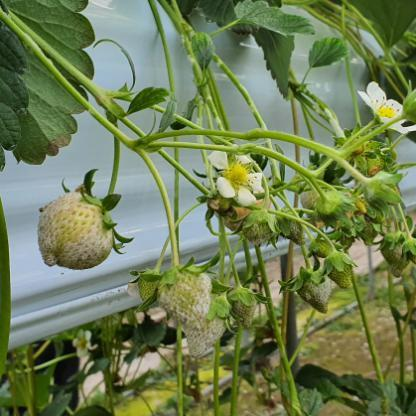Strawberry_Powdery_Mildew_Fruit: (35, 192, 116, 272), (155, 264, 214, 324), (182, 295, 230, 356), (294, 270, 332, 313)
